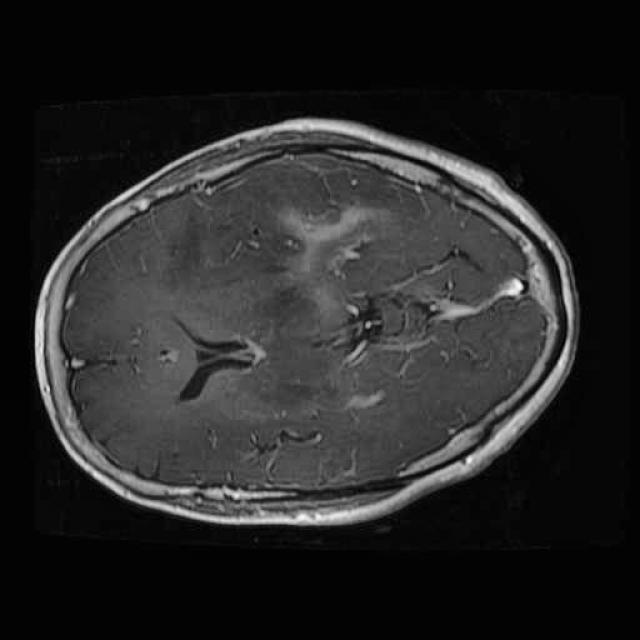Tumor: (255, 173, 396, 335)
